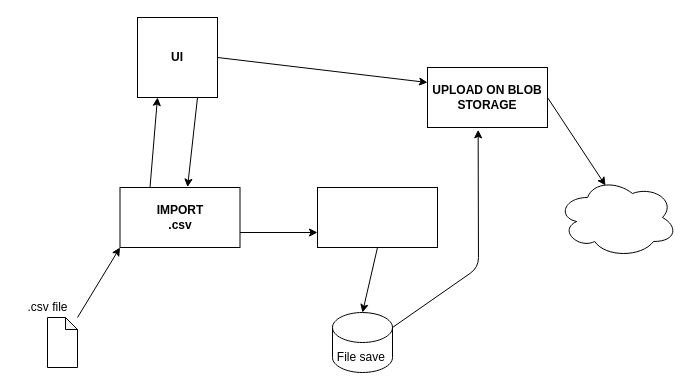
This 695x390 diagram has some shape labels left out. Each missing label, with the centre of its shape:
"Cloud" belongs at [617,217].
"EXPORT" belongs at [377,217].
